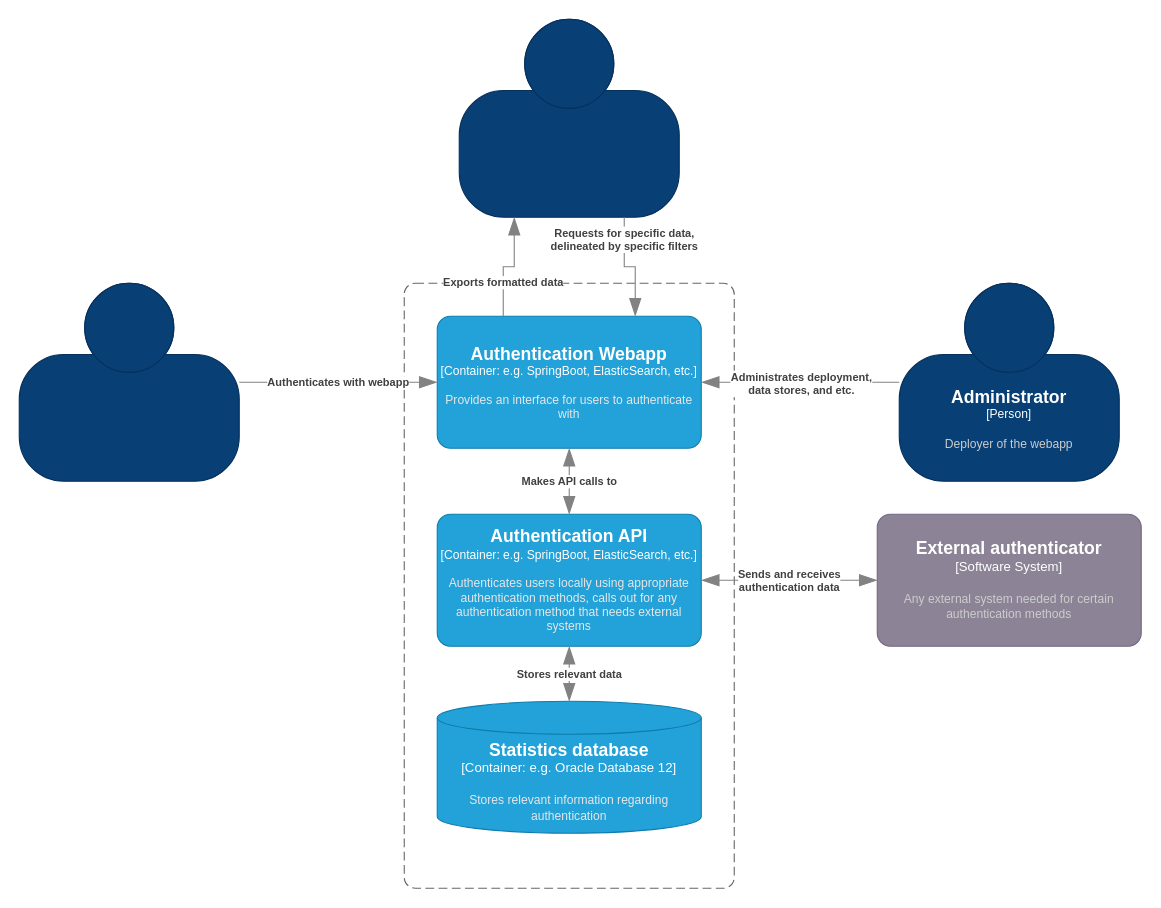
The diagram is 1161 pixels wide and 908 high, and some of its shapes have lost their labels. Each missing label, with the box of its shape:
Authentication Webapp [Webapp software]: (403, 282, 734, 888)
Researcher [Person] Uses the data generated in the webapp for research purposes: (458, 18, 679, 217)
User [Person] User of the webapp: (18, 282, 239, 481)
